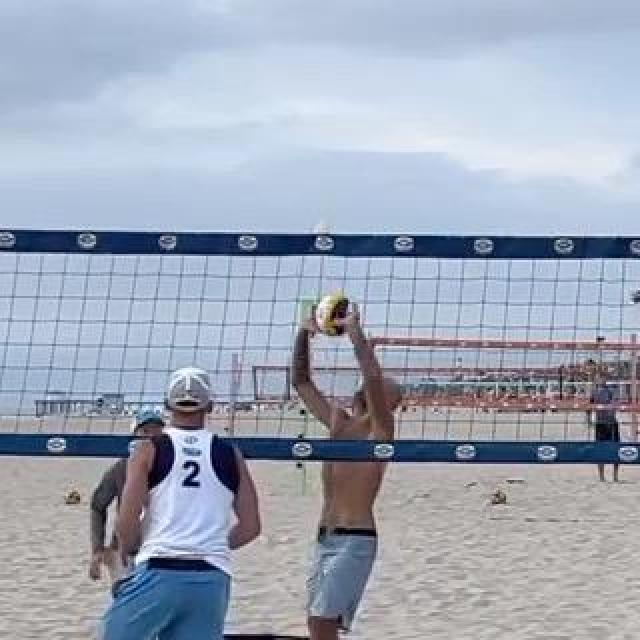volleyball: (313, 294, 357, 336), (65, 490, 81, 506), (491, 490, 507, 506)
